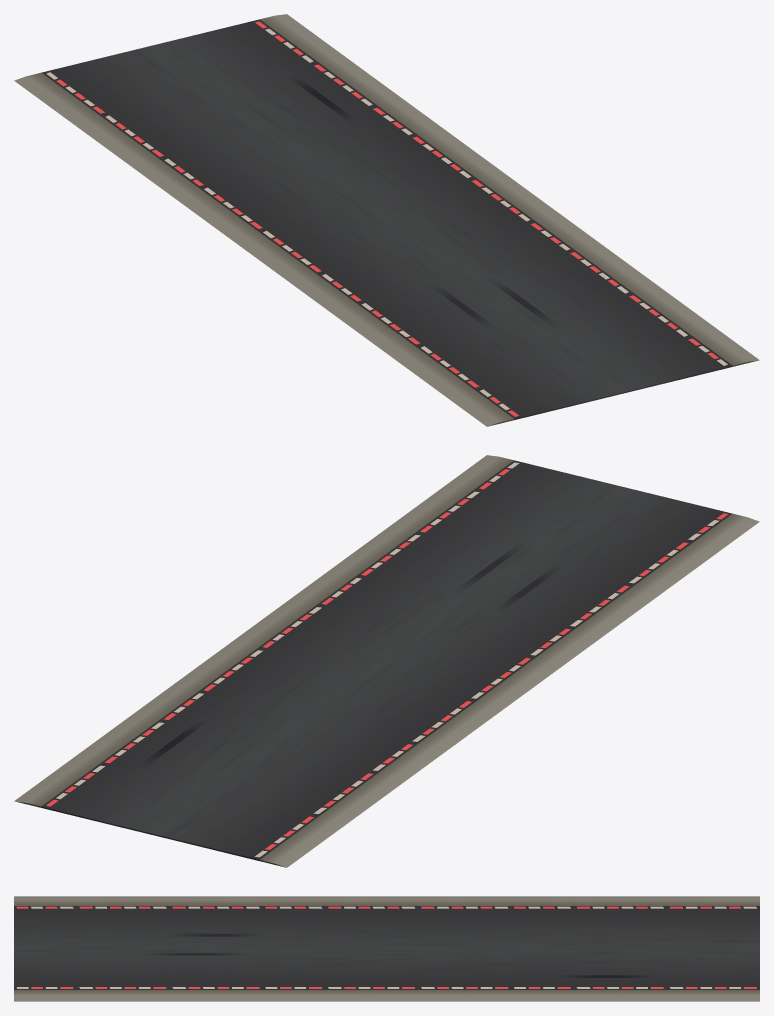
The model's file is Straight_1D_Long.glb.
3 renders of one model, top to bottom at view 1: azimuth 30°, elevation 25°; view 2: azimuth 150°, elevation 25°; view 3: azimuth 270°, elevation 25°, orthographic. The views are drawn at different scales.
Visible parts, largest first — view 1: Straight_1D_Long, Straight_1D_Long_Skidmarks; view 2: Straight_1D_Long, Straight_1D_Long_Skidmarks; view 3: Straight_1D_Long, Straight_1D_Long_Skidmarks.
Boxes of the visible parts, x1,y1,x2,y2 form: Straight_1D_Long: (14,14,759,426); Straight_1D_Long_Skidmarks: (286,73,561,331); Straight_1D_Long: (14,455,759,867); Straight_1D_Long_Skidmarks: (136,542,564,769); Straight_1D_Long: (14,896,759,1001); Straight_1D_Long_Skidmarks: (144,933,659,977).
Size of the model in its own units: 20 by 0.104 by 60.
1 material, 1 textured.
